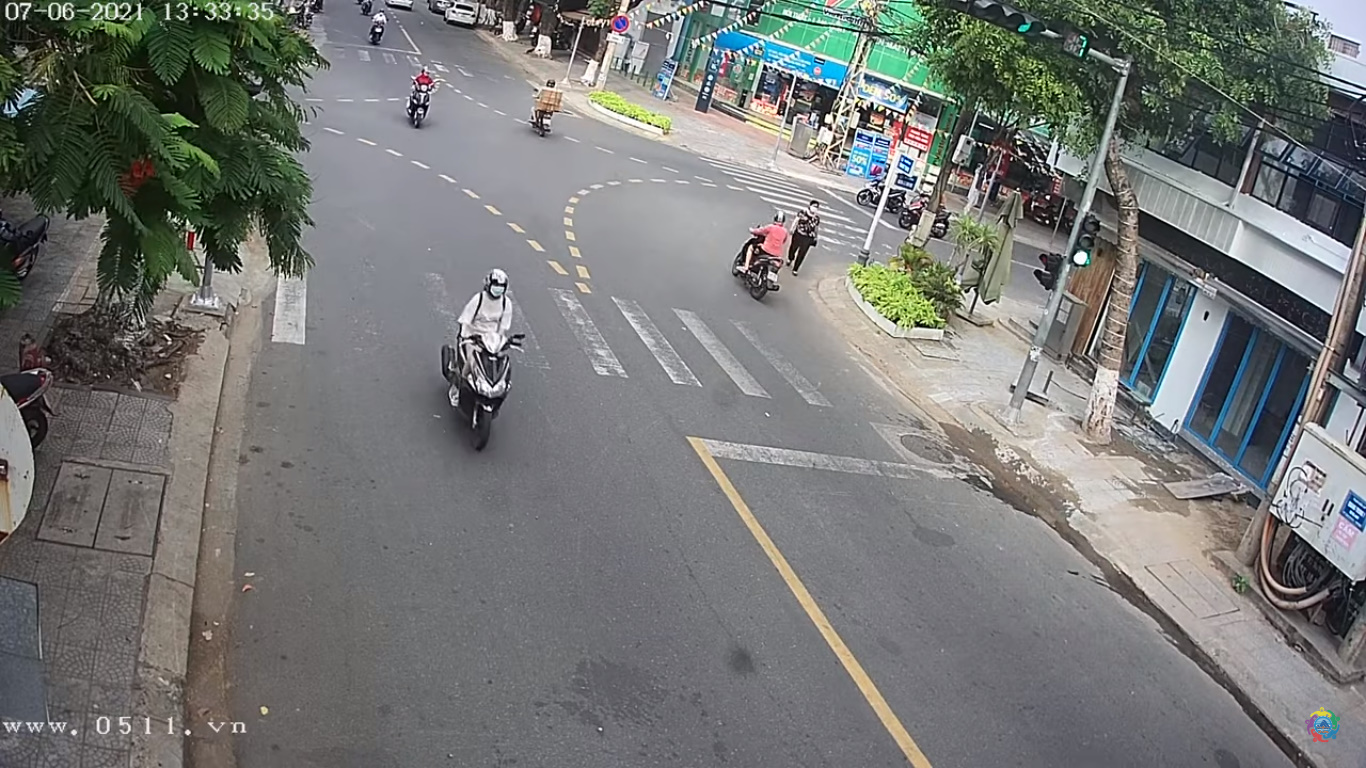motorbike: (445, 289, 519, 448)
